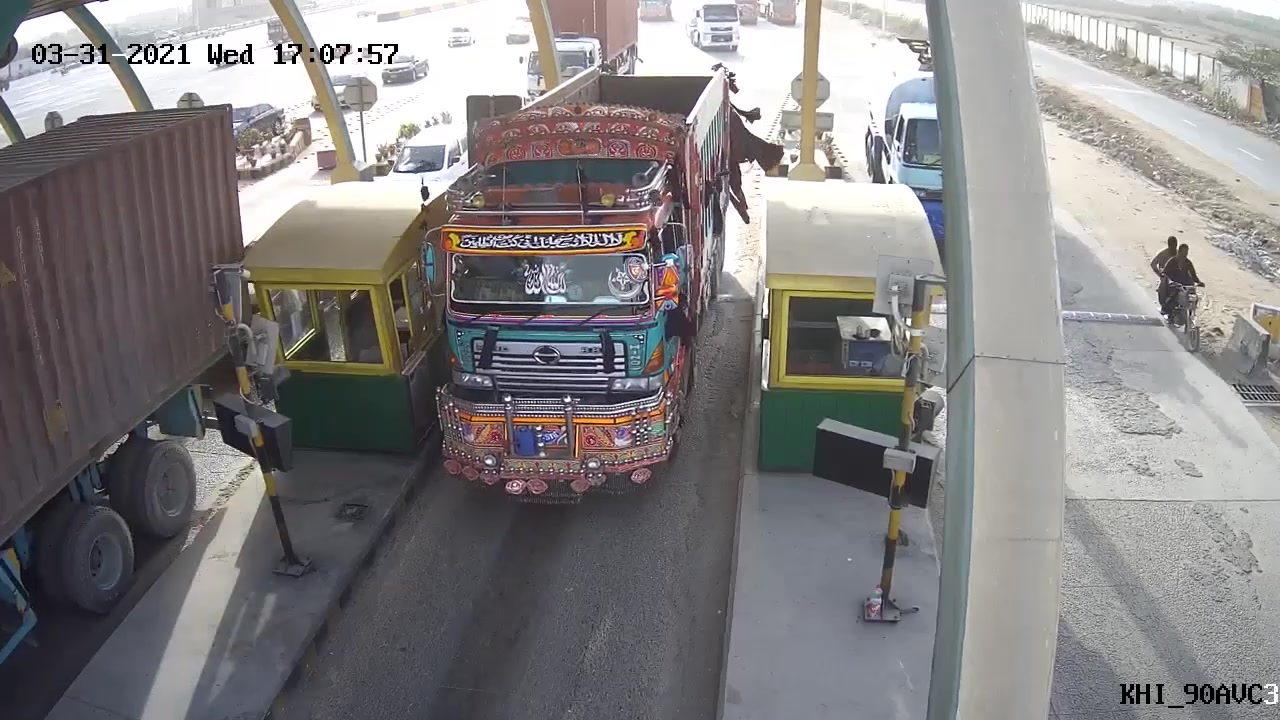F5: (404, 53, 739, 508)
